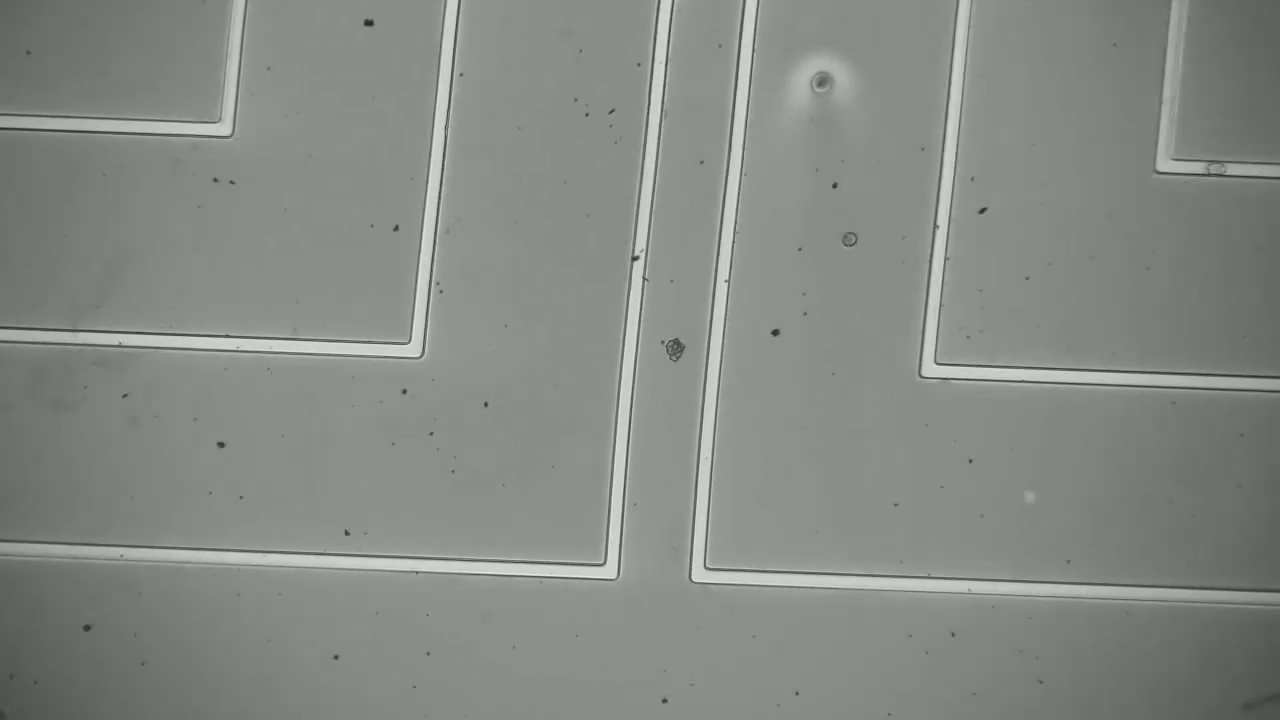stains_enbedded: (1193, 149, 1237, 191), (628, 251, 650, 268)
